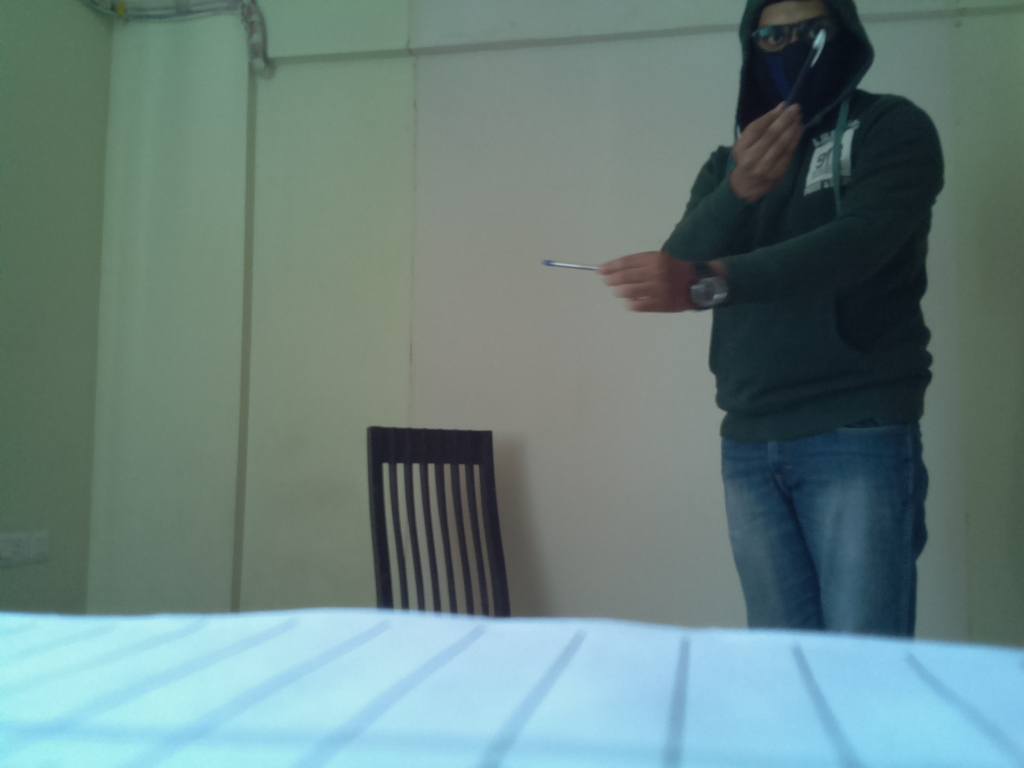none: (781, 25, 833, 107), (535, 257, 617, 281)
none2: (684, 267, 732, 315)
